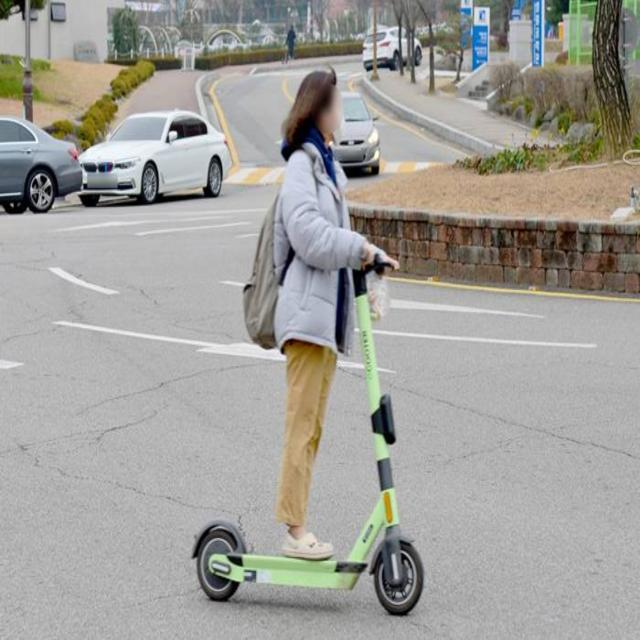Nonhelmet: (286, 68, 352, 142)
